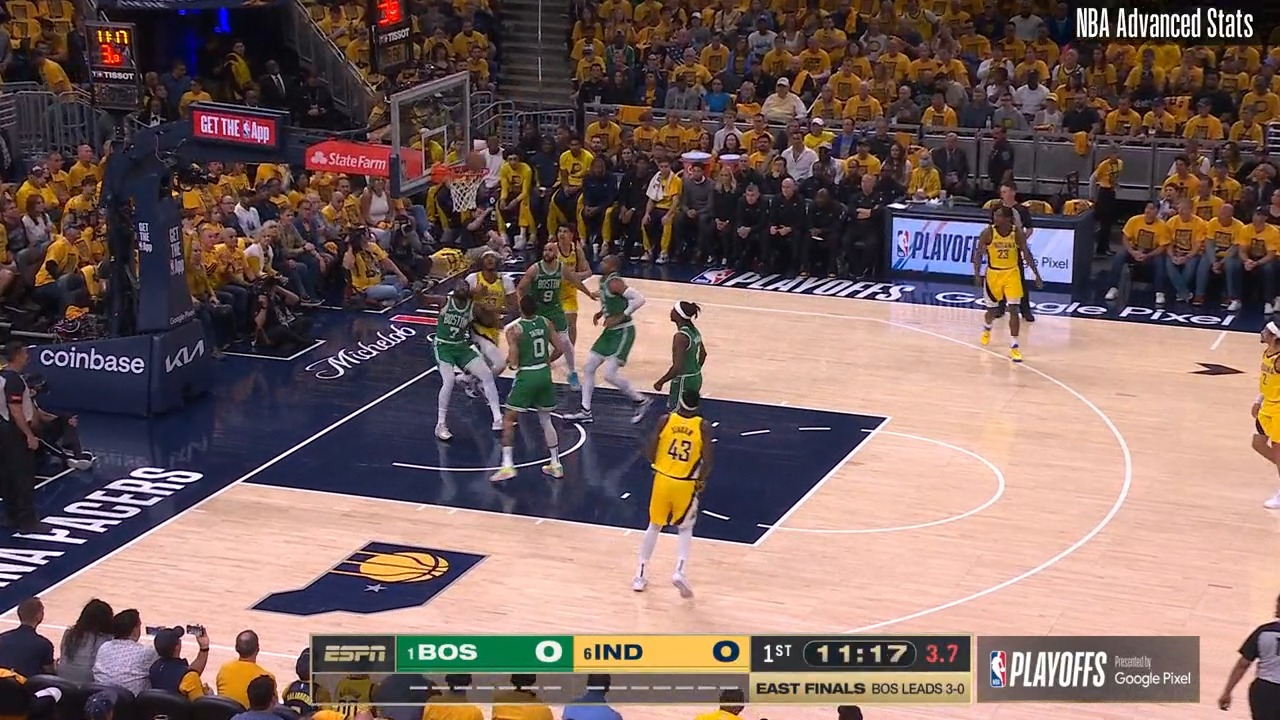basketball: (463, 149, 486, 173)
